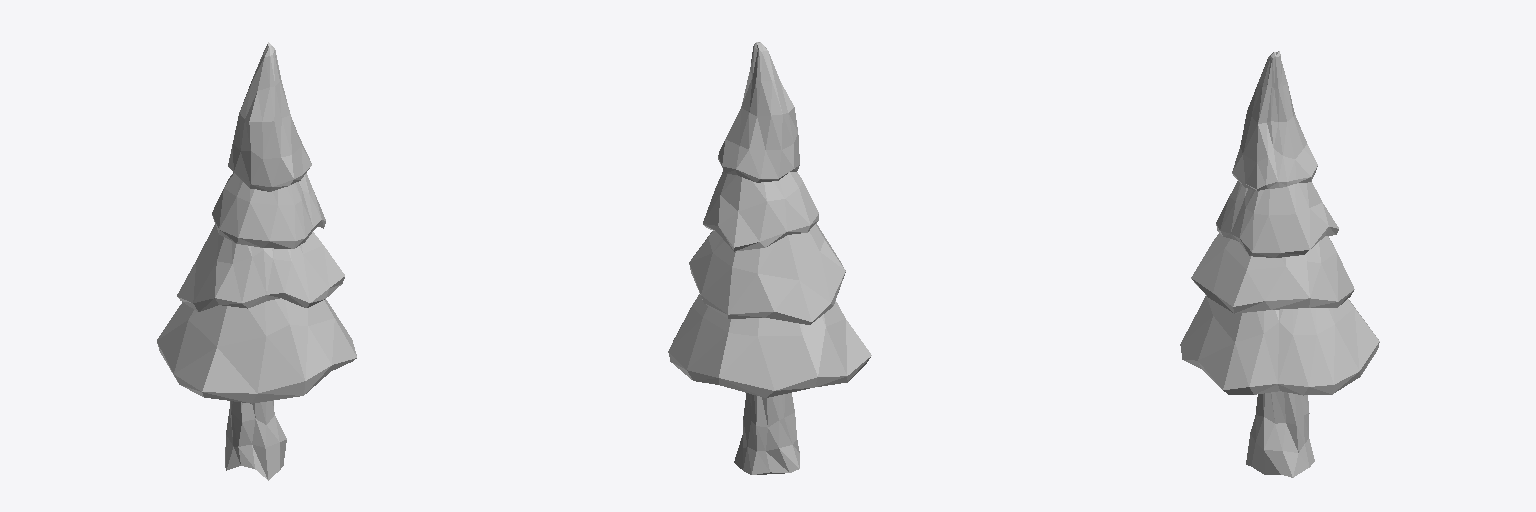
Rendered from pine_tree_3.obj.
3 views of the same model, side by side, from view 1: azimuth 30°, elevation 25°; view 2: azimuth 150°, elevation 25°; view 3: azimuth 270°, elevation 25° (orthographic).
Parts seen in each view (by area): view 1: pine_tree_3; view 2: pine_tree_3; view 3: pine_tree_3.
Part boxes in pixels (x1,y1,x2,y2): pine_tree_3: (157, 42, 356, 480); pine_tree_3: (668, 42, 871, 474); pine_tree_3: (1180, 51, 1379, 477).
Size of the model in its own units: 1.58 by 3.94 by 1.69.